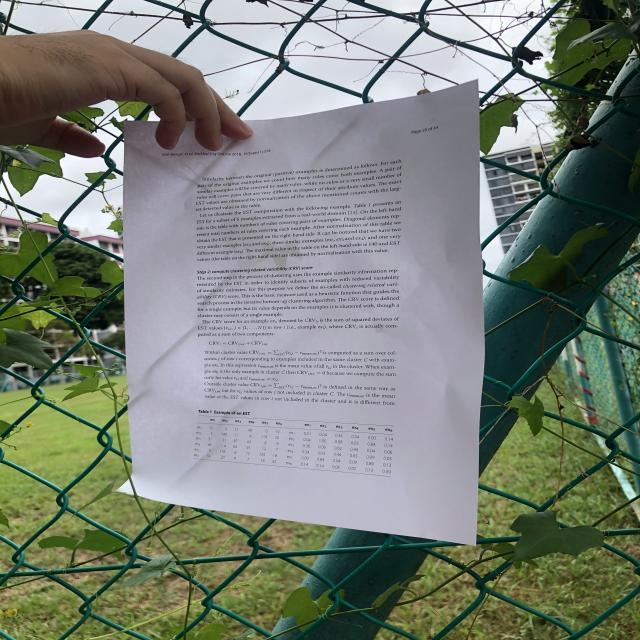document: (123, 81, 483, 544)
